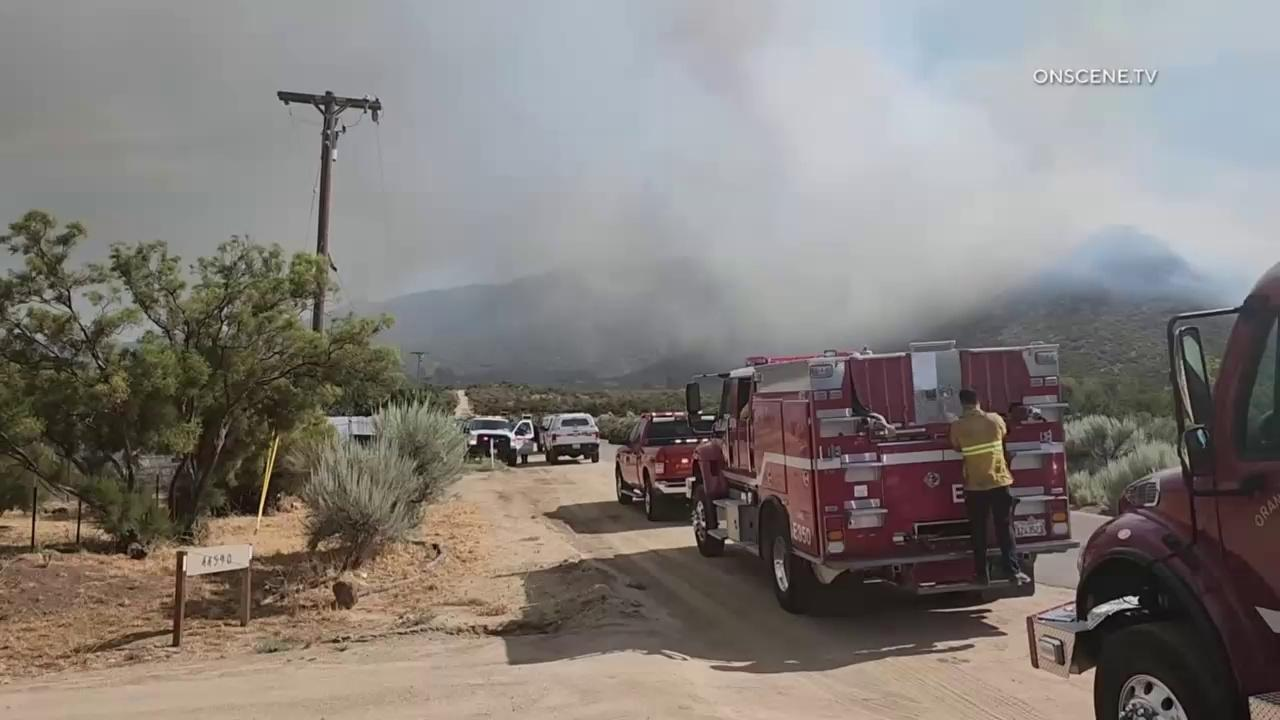smoke: (0, 0, 1280, 388)
